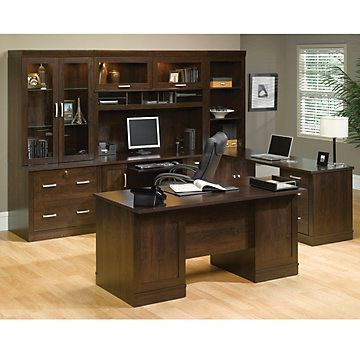chairs: (155, 132, 229, 187)
